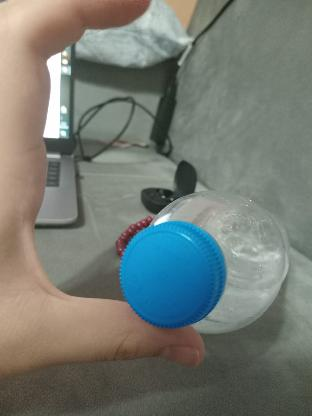Plastic Bottle: (106, 188, 294, 334)
